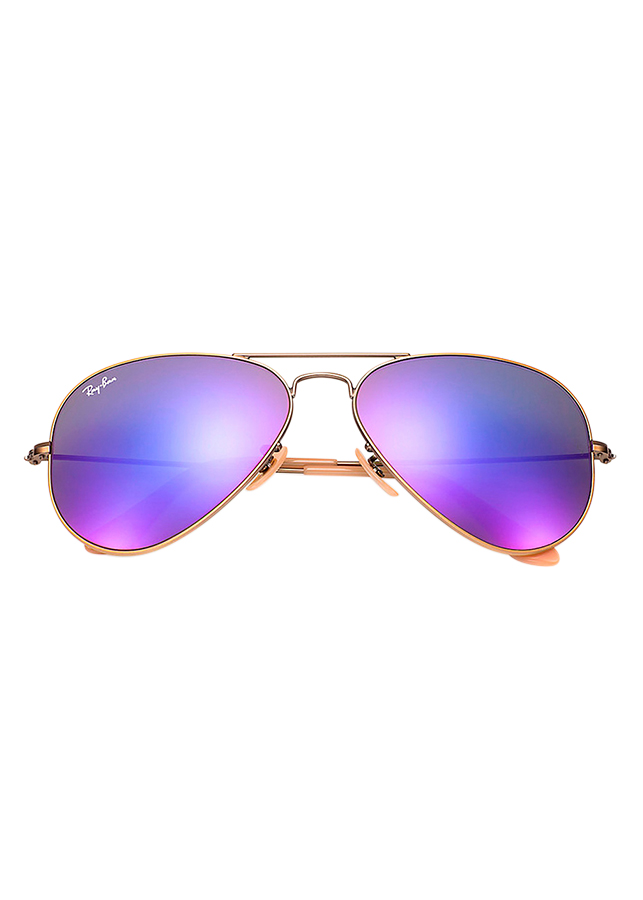Rayban: (75, 370, 123, 402)
